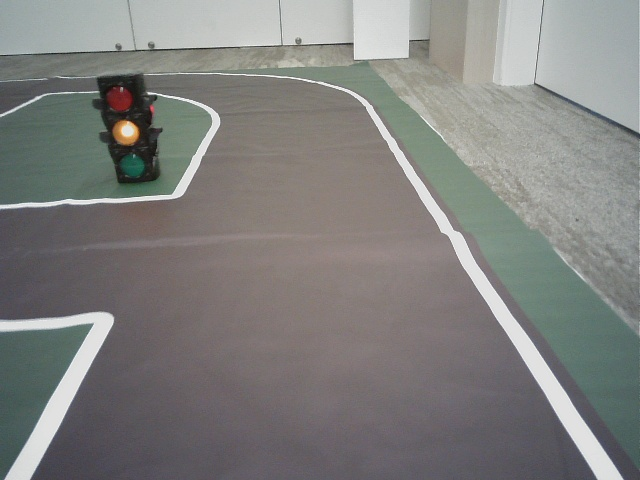yellow: (102, 81, 148, 178)
